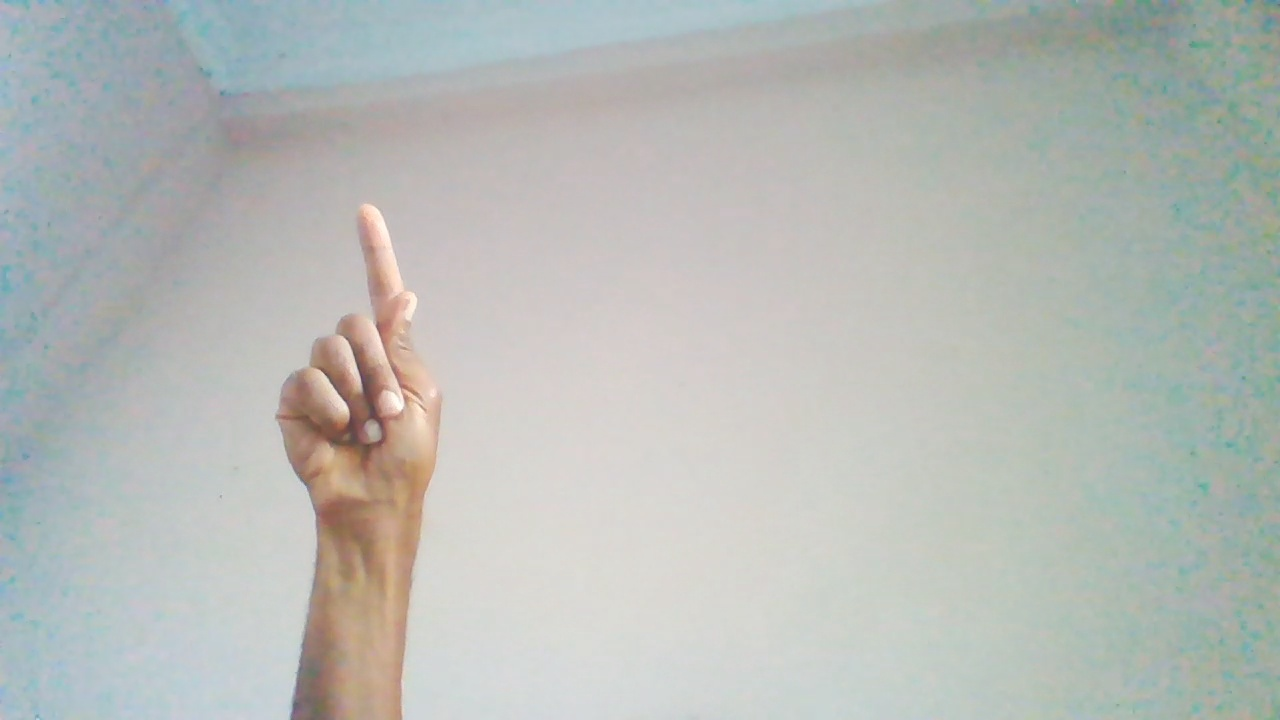ne: (277, 199, 445, 565)
